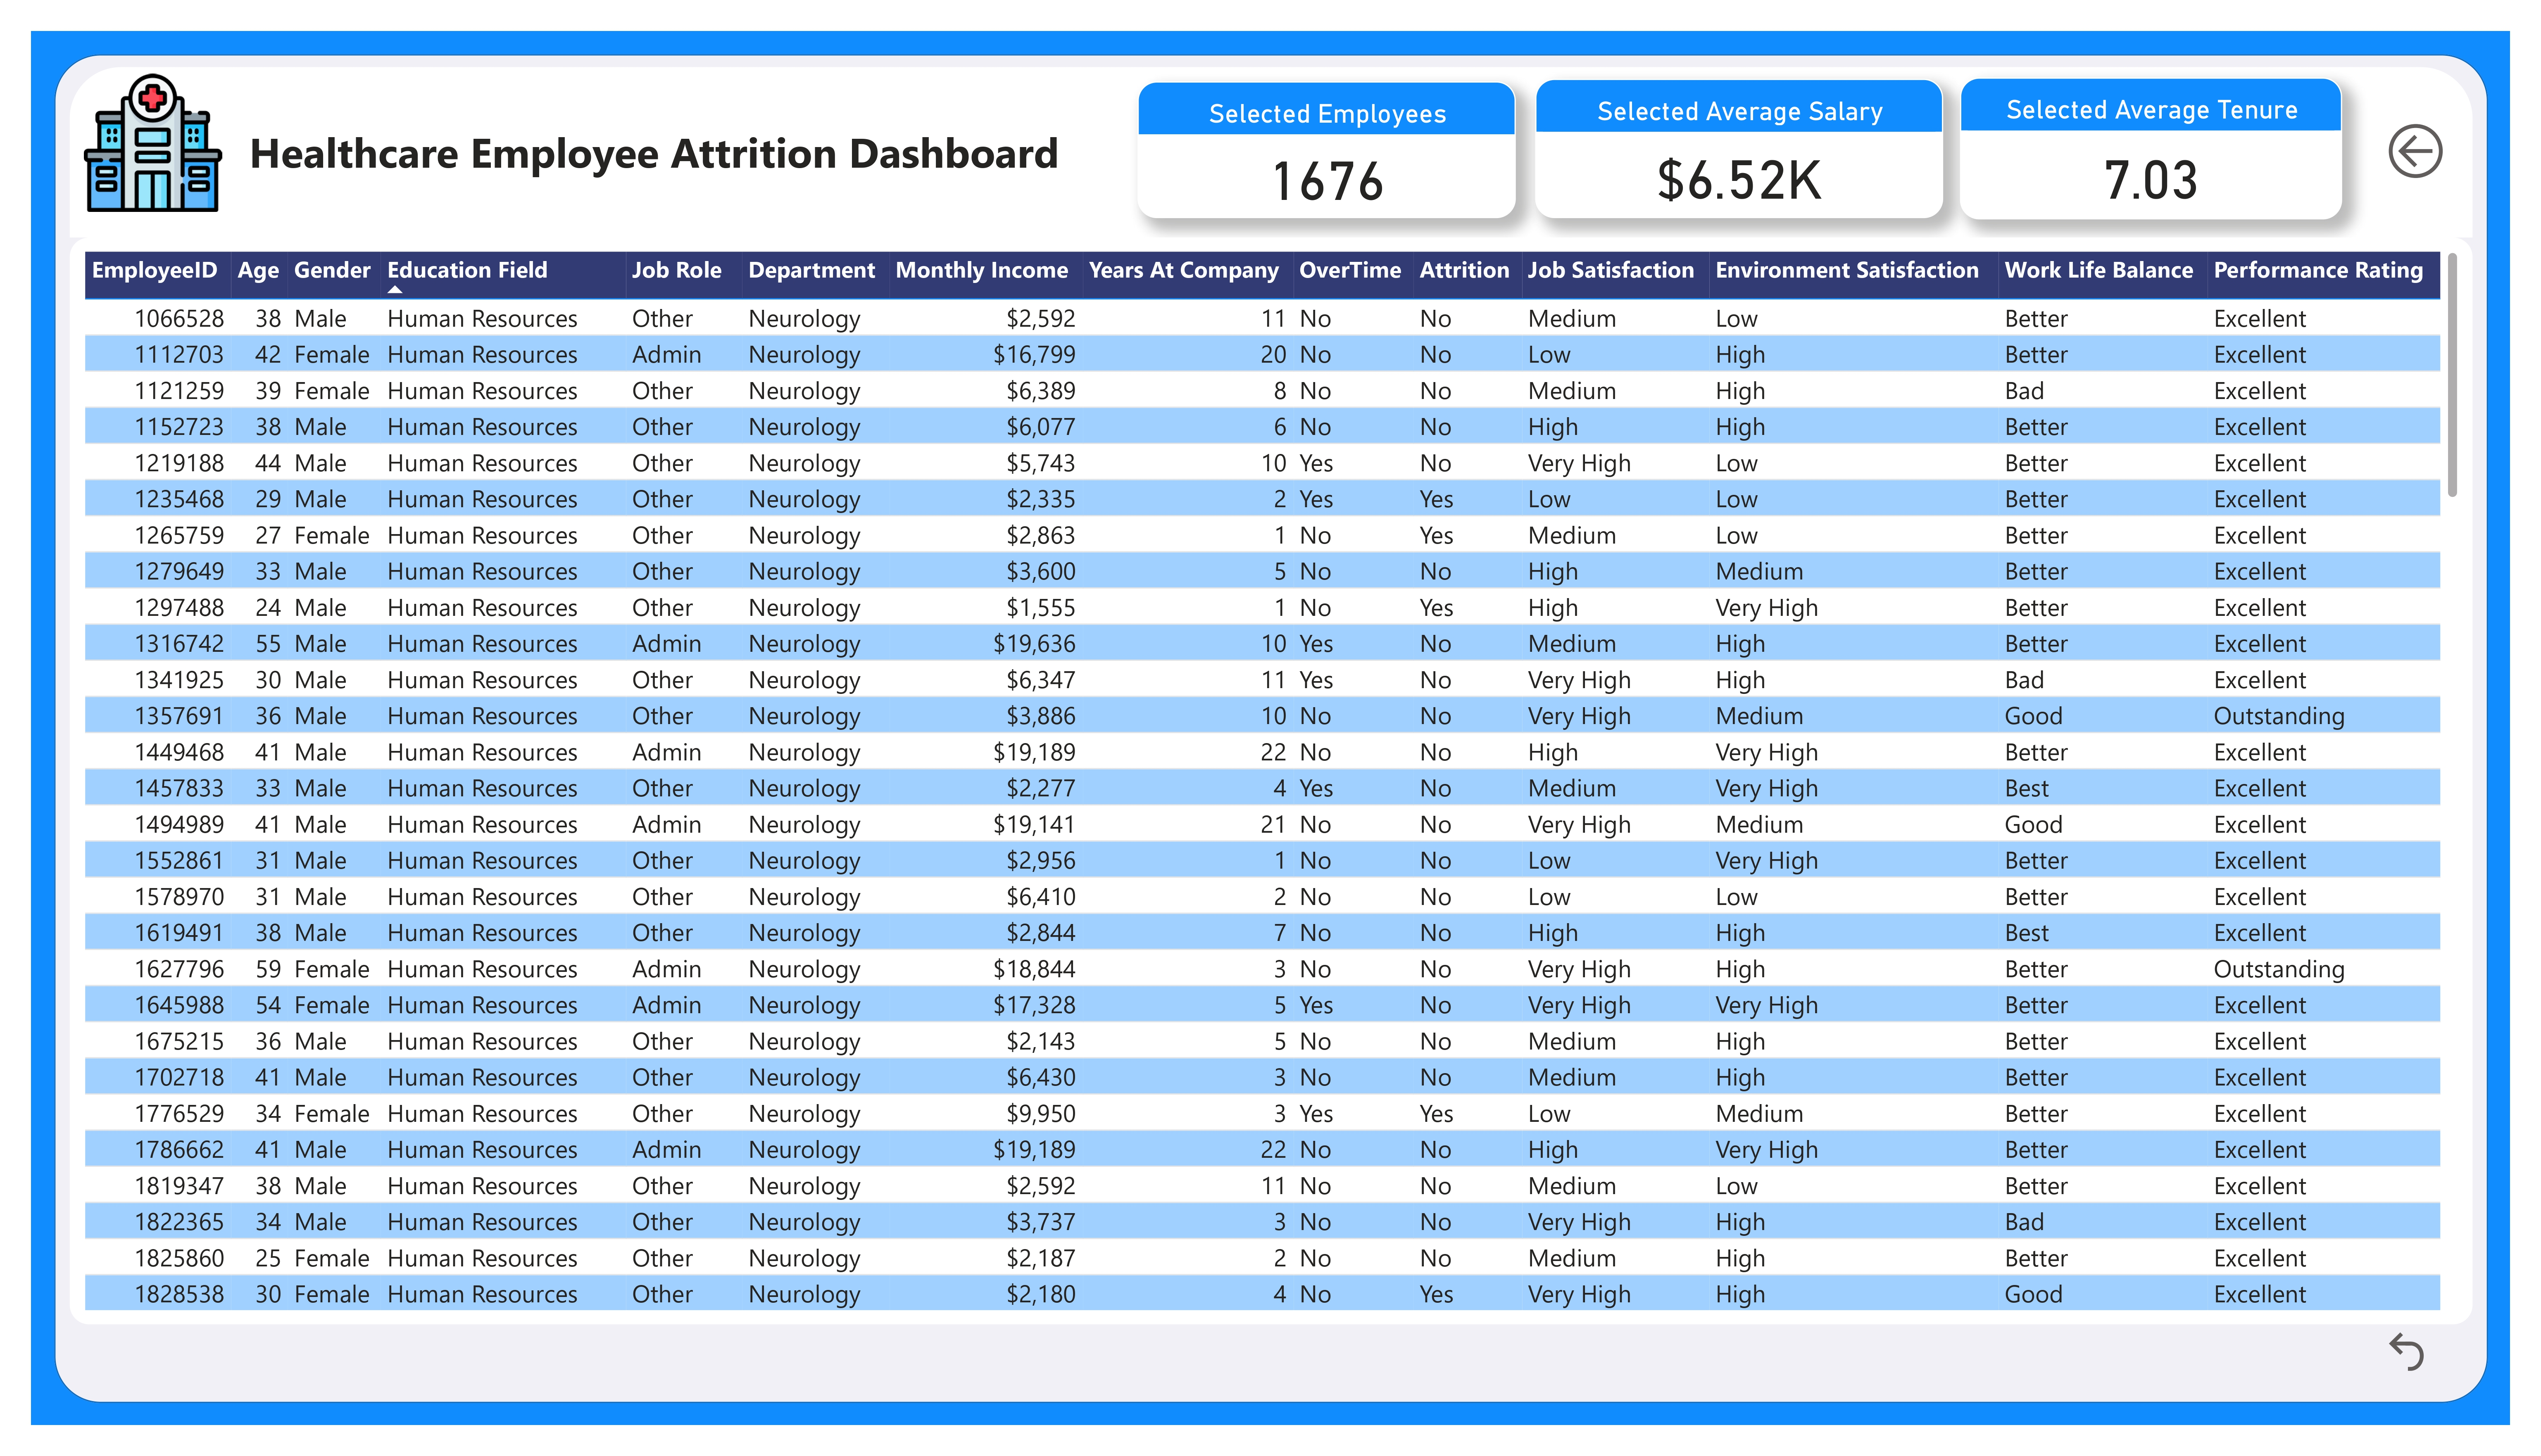

Layout of this report page (visuals, bound fields, positions):
{"tool":"powerbi","page":{"name":"Drill Through Details","canvas":[1920,1080],"ordinal":3},"visuals":[{"type":"shape","box":[17.5,17.5,1885,1045],"z":1000},{"type":"shape","box":[30,27.5,1861.2,132.5],"z":2000},{"type":"textbox","box":[164,66,654,54],"z":3000},{"type":"image","box":[22.5,27.5,142.5,117.5],"z":4000},{"type":"card","title":"Selected Employees","fields":{"Values":["Fact_EmployeeAttrition.Selected Employees"]},"box":[857.4,38.7,292.3,106.5],"z":5000},{"type":"card","title":"Selected Average Salary","fields":{"Values":["Fact_EmployeeAttrition.Selected Avg Salary"]},"box":[1165.2,36.8,315.5,108.4],"z":6000},{"type":"card","title":"Selected Average Tenure","fields":{"Values":["Fact_EmployeeAttrition.Selected Avg Tenure"]},"box":[1494,36,296,110],"z":7000},{"type":"tableEx","fields":{"Values":["Fact_EmployeeAttrition.EmployeeID","Dim_Employee.Age","Dim_Employee.Gender","Dim_Education.EducationField","Dim_Employee.JobRole","Dim_Employee.Department","Sum(Fact_EmployeeAttrition.MonthlyIncome)","Sum(Fact_EmployeeAttrition.YearsAtCompany)","Fact_EmployeeAttrition.OverTime","Fact_EmployeeAttrition.Attrition","Dim_Satisfaction.JobSatisfactionLabel","Dim_Satisfaction.EnvSatisfactionLabel"]},"box":[30.4,160.5,1860.7,841.4],"z":8000},{"type":"actionButton","box":[1820,66,82,54],"z":9000},{"type":"actionButton","box":[1820,1002.5,100,40],"z":10000}]}

Visuals, with their boxes on the page's 1920x1080 design canvas (x1, y1, x2, y2). These are canvas units, not pixel positions in the 2541x1456 screenshot, which may show the page scaled, cropped or inside an application window:
shape: 18 18 1902 1062
shape: 30 28 1891 160
textbox: 164 66 818 120
image: 22 28 165 145
"Selected Employees" card: 857 39 1150 145
"Selected Average Salary" card: 1165 37 1481 145
"Selected Average Tenure" card: 1494 36 1790 146
tableEx - Fact_EmployeeAttrition.EmployeeID x Dim_Employee.Age: 30 160 1891 1002
actionButton: 1820 66 1902 120
actionButton: 1820 1002 1920 1042
